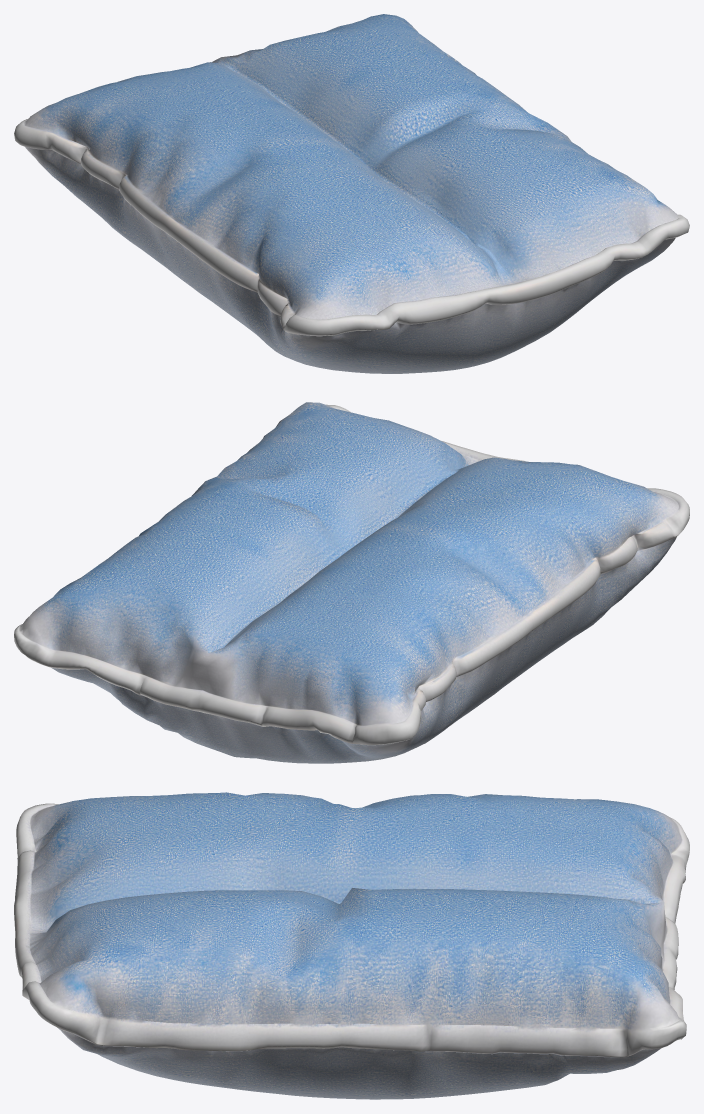
The model's file is tripo_convert_b4c40bc9-8770-4318-905c-4234eb685a78.glb.
The picture shows the model from 3 angles, top to bottom: view 1: azimuth 30°, elevation 25°; view 2: azimuth 150°, elevation 25°; view 3: azimuth 270°, elevation 25°; orthographic projection. The views are drawn at different scales.
Visible parts, largest first — view 1: tripo_node_b4c40bc9-8770-4318-905c-4234eb685a78; view 2: tripo_node_b4c40bc9-8770-4318-905c-4234eb685a78; view 3: tripo_node_b4c40bc9-8770-4318-905c-4234eb685a78.
Part boxes in pixels (x1,y1,x2,y2): tripo_node_b4c40bc9-8770-4318-905c-4234eb685a78: [14, 14, 689, 373]; tripo_node_b4c40bc9-8770-4318-905c-4234eb685a78: [14, 402, 689, 763]; tripo_node_b4c40bc9-8770-4318-905c-4234eb685a78: [14, 792, 689, 1099].
Size of the model in its own units: 0.7612 by 0.3345 by 0.9995.
Materials: 1 (1 with a texture image).
